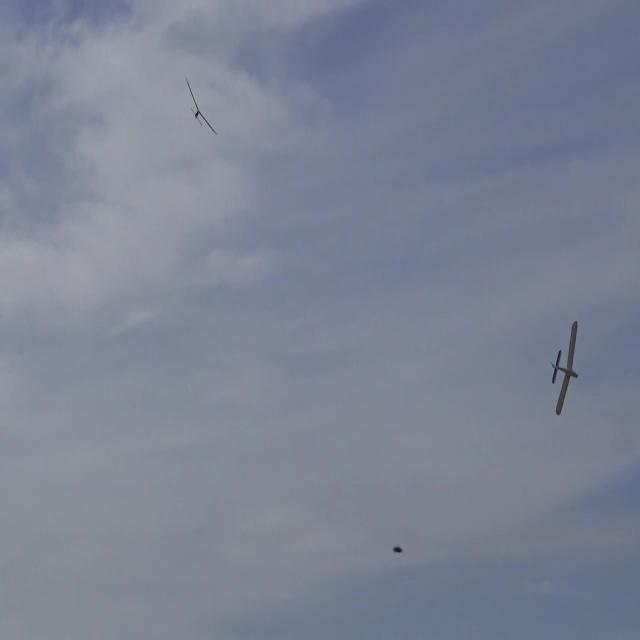iha: (178, 13, 212, 73), (549, 350, 581, 387), (395, 547, 399, 551)
